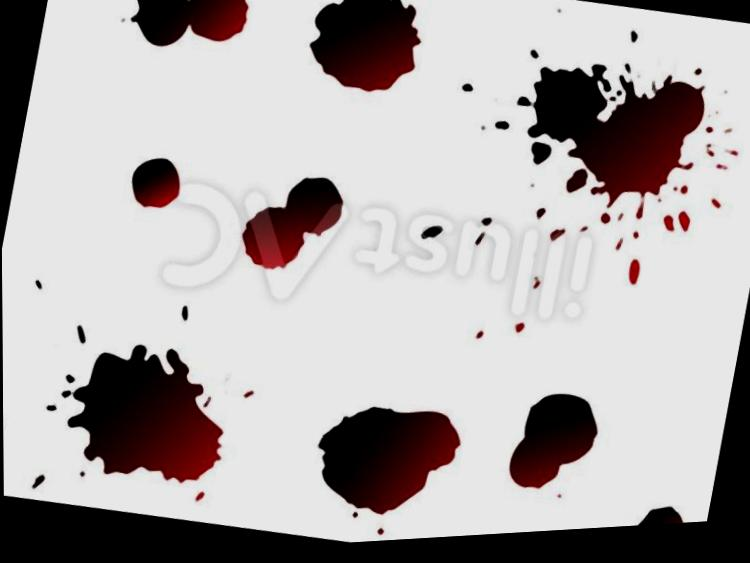Fire: (515, 71, 706, 228), (66, 346, 223, 488), (315, 411, 460, 520), (309, 0, 421, 97), (241, 181, 343, 273), (509, 401, 597, 495), (131, 0, 250, 49), (131, 160, 180, 210), (638, 516, 682, 533)
